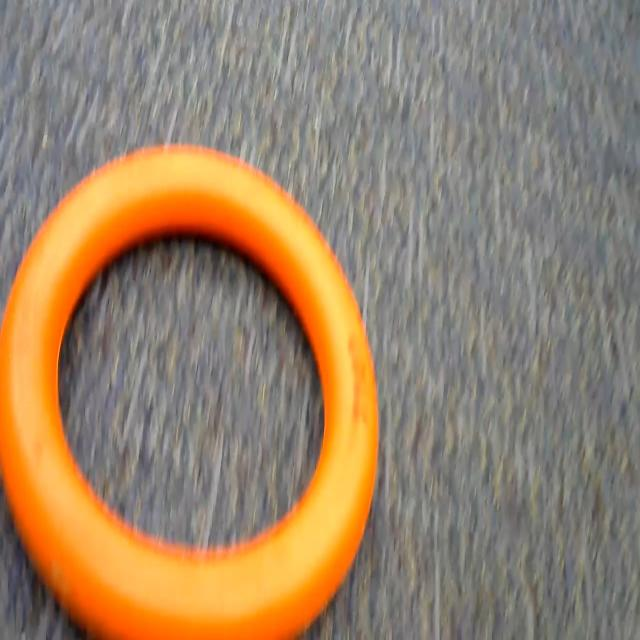note: (1, 128, 383, 640)
